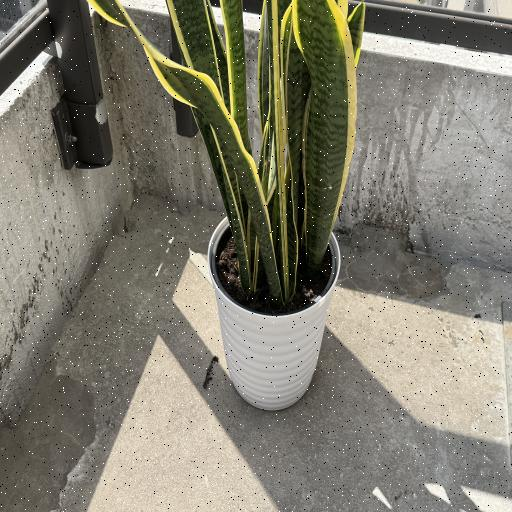Plant Pot: (207, 209, 342, 411)
